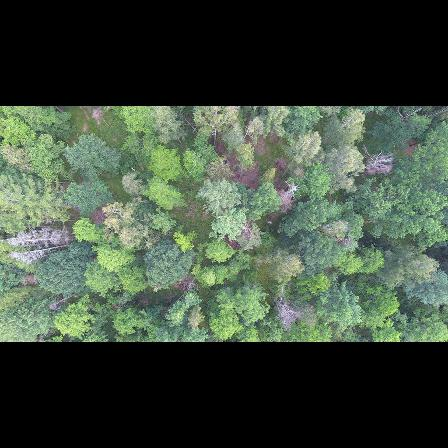Dead: (346, 149, 395, 180), (8, 243, 71, 264), (276, 288, 298, 334), (0, 227, 51, 243), (8, 233, 77, 244), (273, 183, 300, 210)
